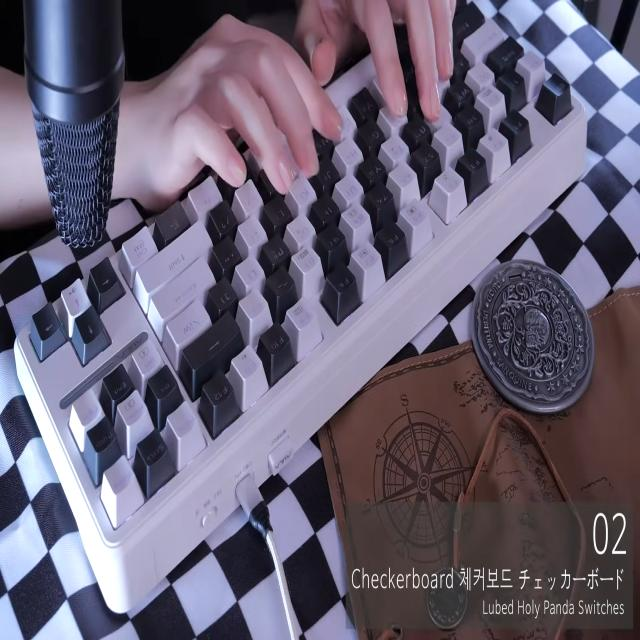keyboard-with-hands: (18, 0, 587, 551)
